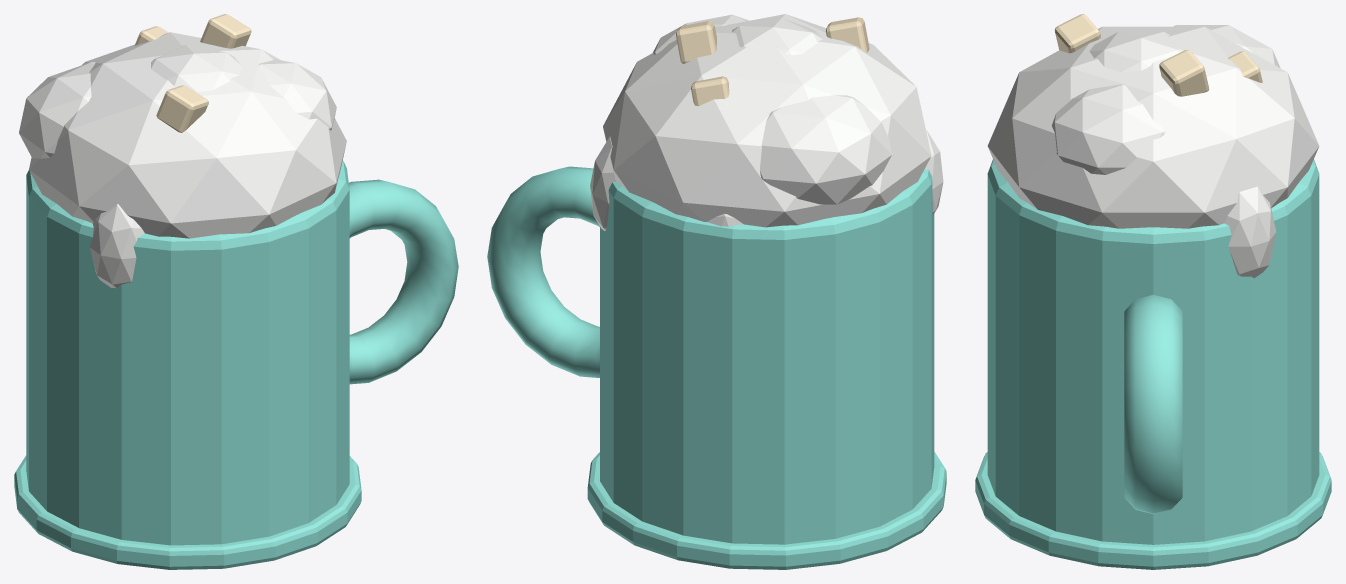
Rendered from thermal_paste_beer.glb.
3 renders of one model, left to right at view 1: azimuth 30°, elevation 25°; view 2: azimuth 150°, elevation 25°; view 3: azimuth 270°, elevation 25°, orthographic. The views are drawn at different scales.
Parts seen in each view (by area): view 1: Handle, Foam, Binary sugar; view 2: Handle, Foam, Binary sugar; view 3: Handle, Foam, Binary sugar.
Part boxes in pixels (x1,y1,x2,y2): Handle: (14, 160, 458, 569); Foam: (19, 32, 346, 288); Binary sugar: (134, 14, 251, 132); Handle: (487, 166, 946, 569); Foam: (590, 14, 943, 230); Binary sugar: (676, 17, 869, 106); Handle: (975, 159, 1331, 569); Foam: (987, 25, 1319, 278); Binary sugar: (1054, 14, 1262, 96).
Size of the model in its own units: 0.8 by 0.8388 by 0.5799.
